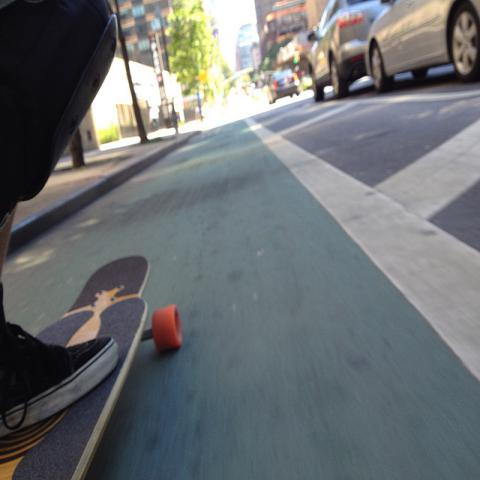car: (364, 0, 480, 93), (306, 2, 380, 99), (267, 65, 301, 107)
